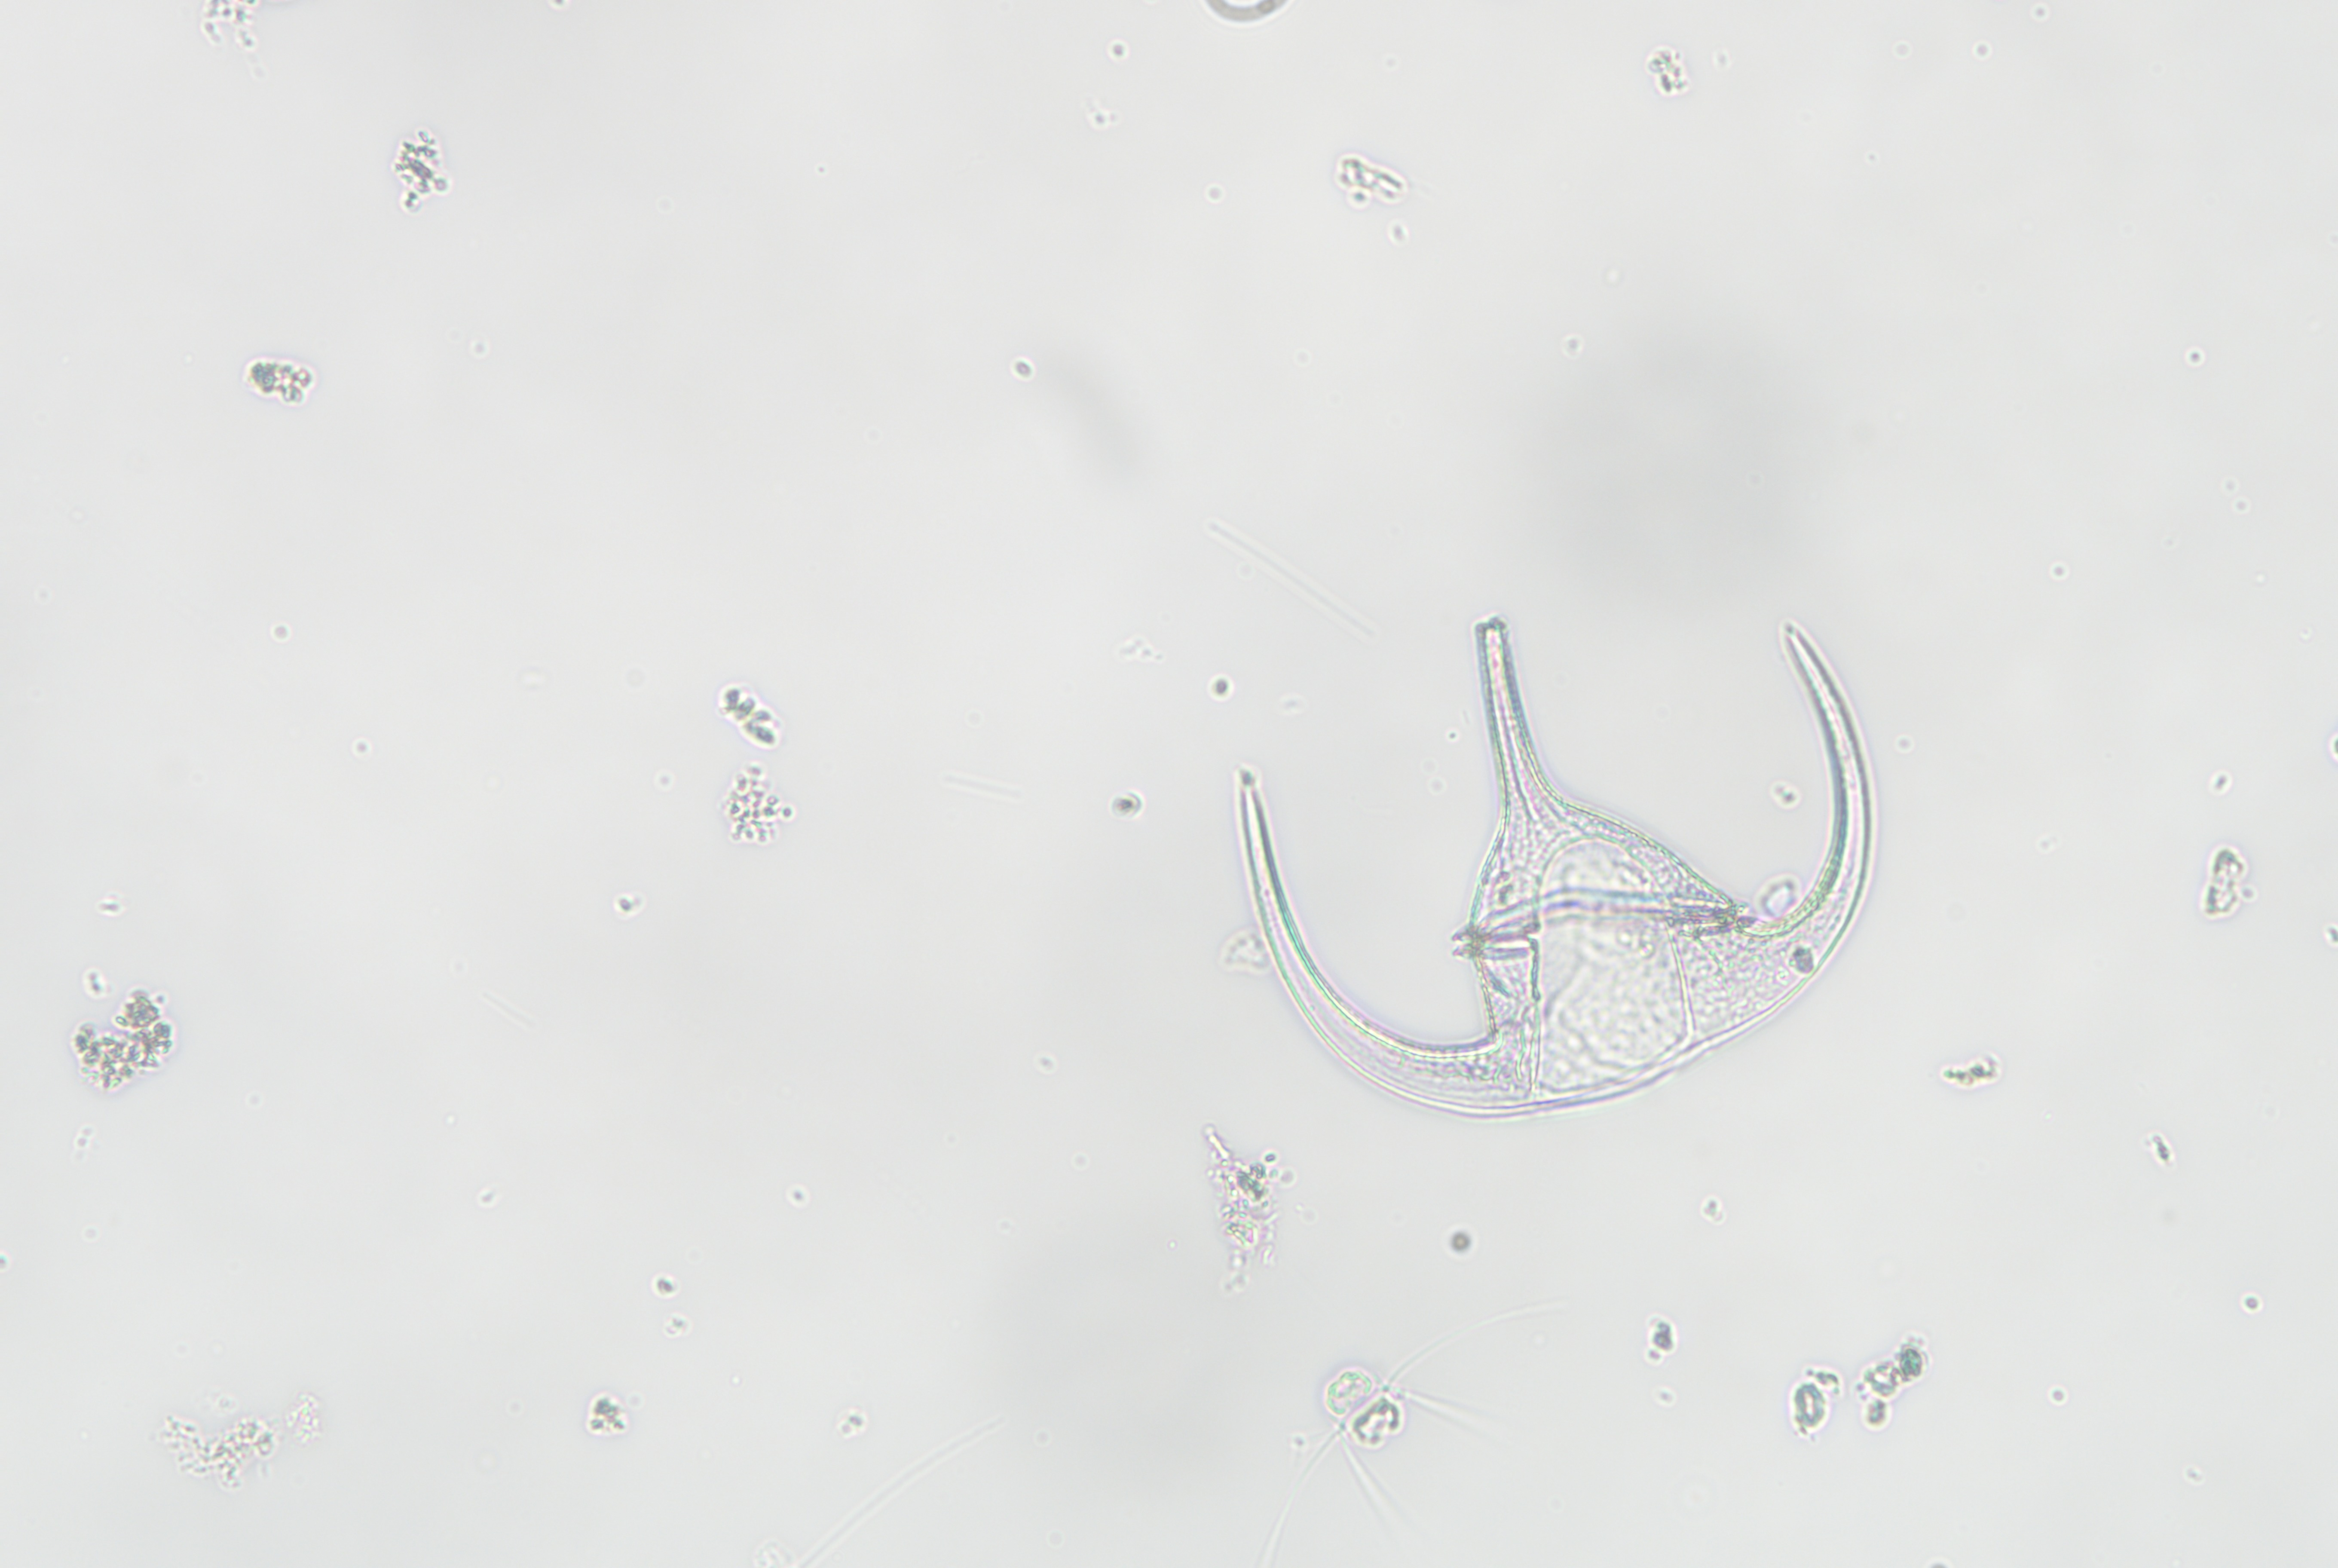ceratium tripos: (1197, 591, 1879, 1127)
